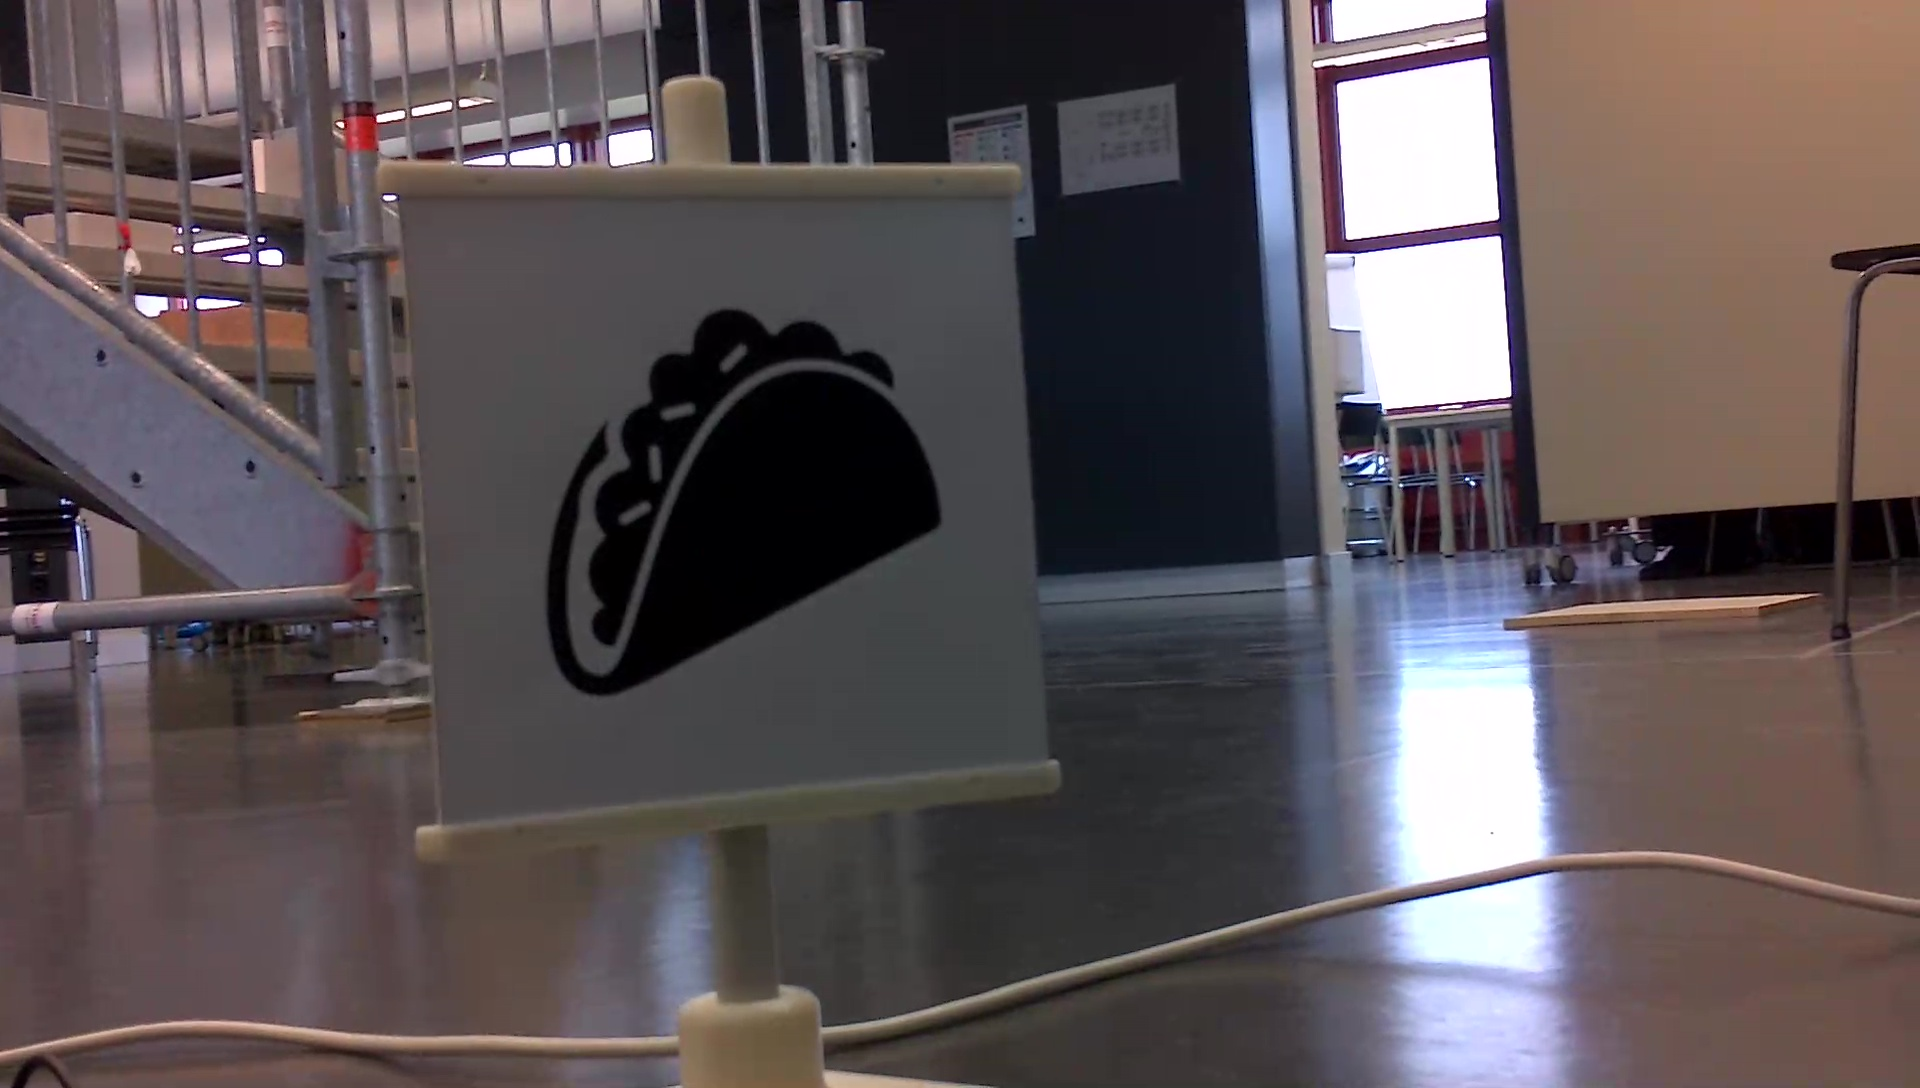taco: (533, 295, 953, 706)
